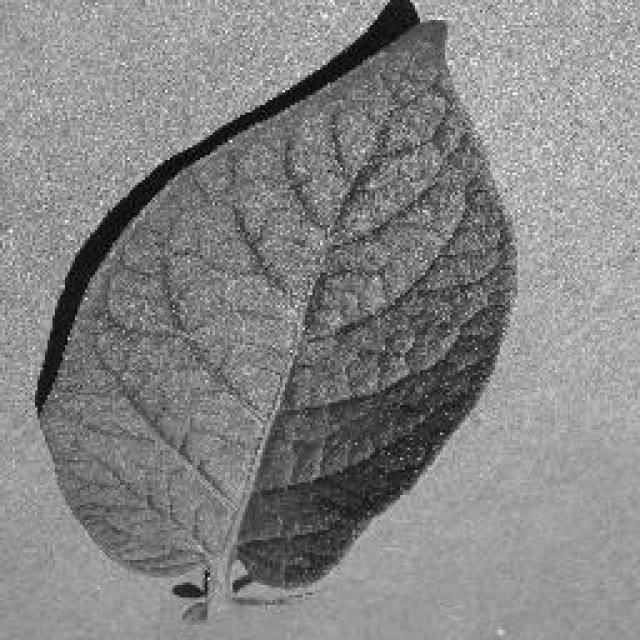Potato: (32, 0, 518, 620)
